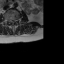CCS_normal: (11, 18, 13, 26)
LFS_stenosis: (15, 17, 17, 22)
LLS_normal: (13, 17, 15, 24)
RFS_normal: (8, 17, 10, 23)
RLS_normal: (10, 17, 11, 24)
